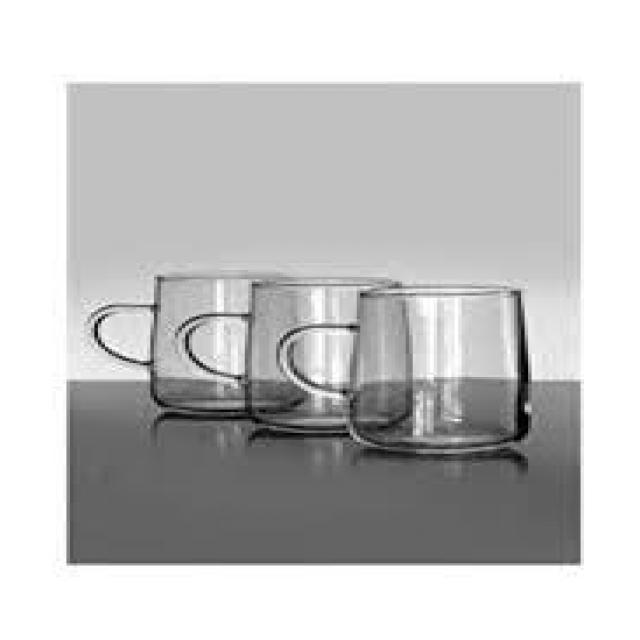glass: (276, 286, 535, 447)
